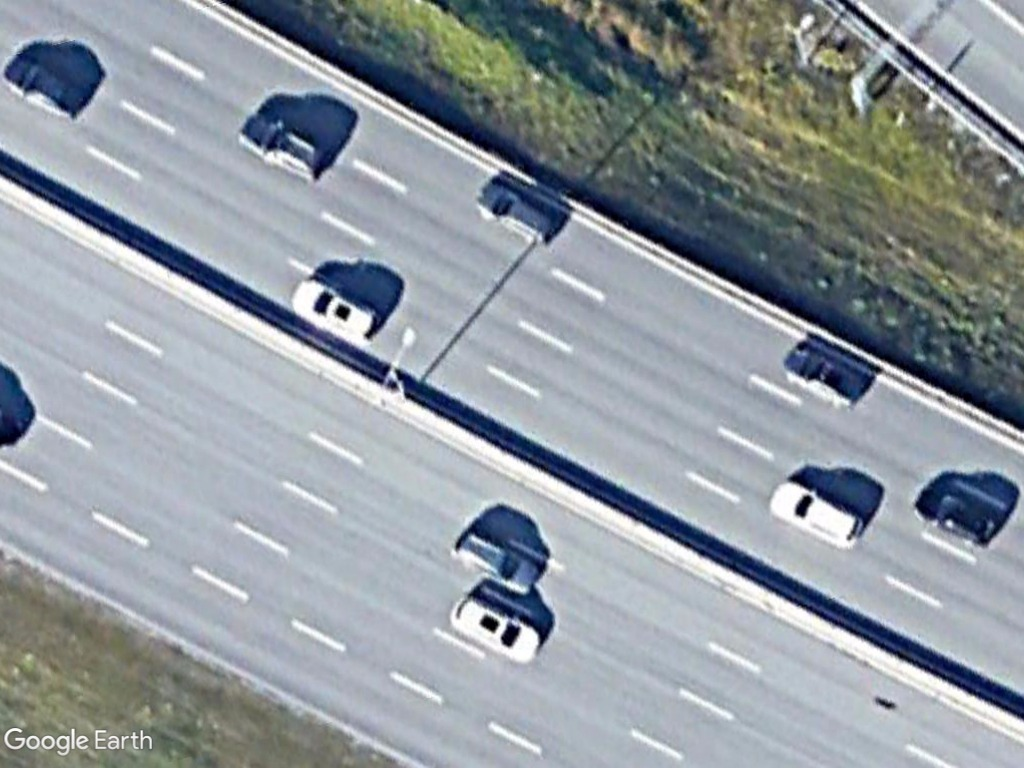car: (762, 477, 873, 555), (447, 524, 549, 603), (444, 588, 546, 664), (233, 110, 329, 189), (286, 275, 388, 349), (0, 44, 94, 124), (912, 482, 1003, 553), (473, 179, 562, 249)
